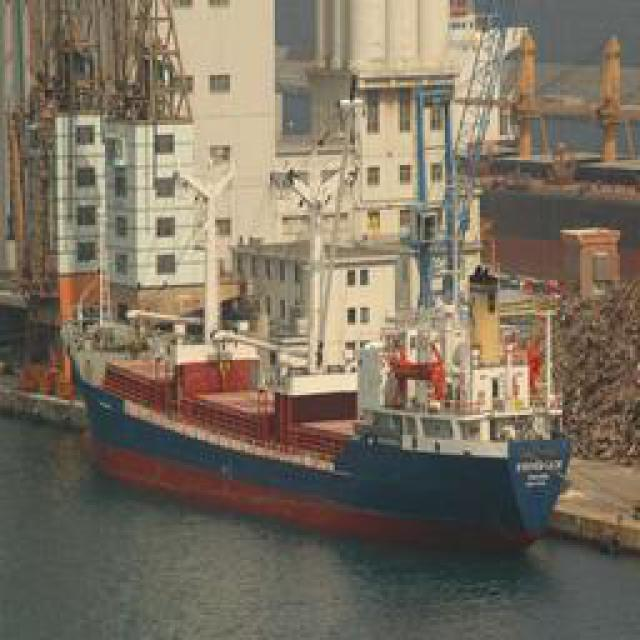Ship: (68, 242, 573, 552)
